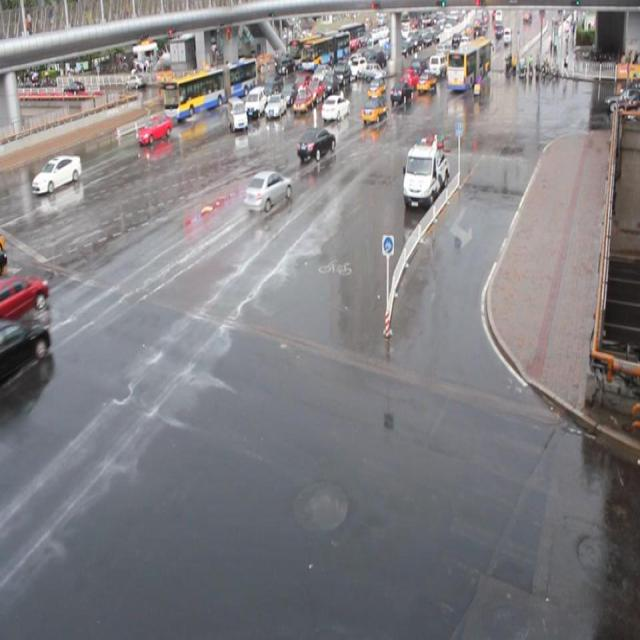bus: (402, 139, 449, 207)
car: (1, 315, 51, 384), (1, 274, 48, 328), (243, 170, 292, 210), (32, 154, 82, 192), (296, 126, 335, 160), (136, 115, 172, 142), (360, 95, 387, 123), (321, 93, 349, 120), (292, 89, 313, 115), (266, 93, 287, 118), (390, 81, 412, 104), (264, 76, 286, 99), (304, 78, 324, 103), (279, 81, 299, 104), (366, 75, 386, 98), (291, 73, 311, 95), (263, 74, 283, 92)
truck: (226, 96, 247, 132), (245, 86, 268, 118)
van: (163, 58, 257, 119)
